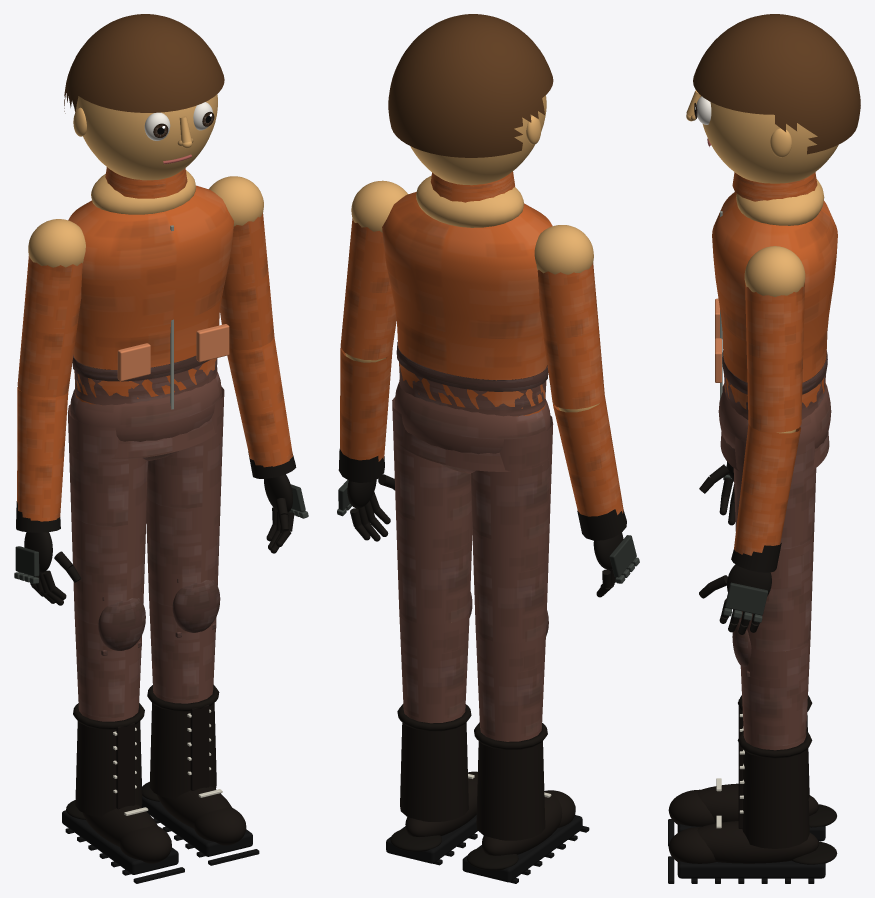
The model's file is 08-pantalon-a-genouilleres.glb.
The picture shows the model from 3 angles, left to right: view 1: azimuth 30°, elevation 25°; view 2: azimuth 150°, elevation 25°; view 3: azimuth 270°, elevation 25°; orthographic projection. The views are drawn at different scales.
Bounding box in the file's own units: 0.6344 × 1.77 × 0.3715.
25 materials, 4 textured.
